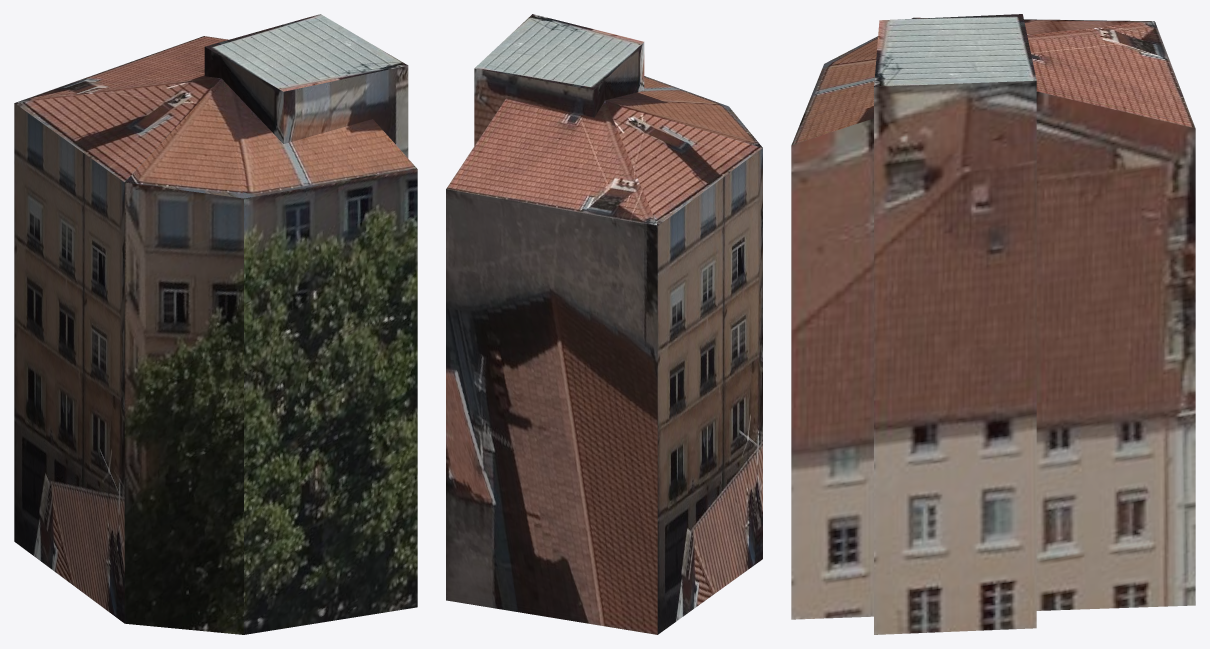
The picture shows the model from 3 angles, left to right: view 1: azimuth 30°, elevation 25°; view 2: azimuth 150°, elevation 25°; view 3: azimuth 270°, elevation 25°; orthographic projection. The views are drawn at different scales.
Parts seen in each view (by area): view 1: Z_UP; view 2: Z_UP; view 3: Z_UP.
Boxes of the visible parts, left/top/right/bottom form: Z_UP: left=14, top=14, right=417, bottom=634; Z_UP: left=446, top=14, right=762, bottom=634; Z_UP: left=791, top=14, right=1195, bottom=634.
Bounding box in the file's own units: 12.73 × 23.31 × 15.52.
Materials: 2 (1 with a texture image).
